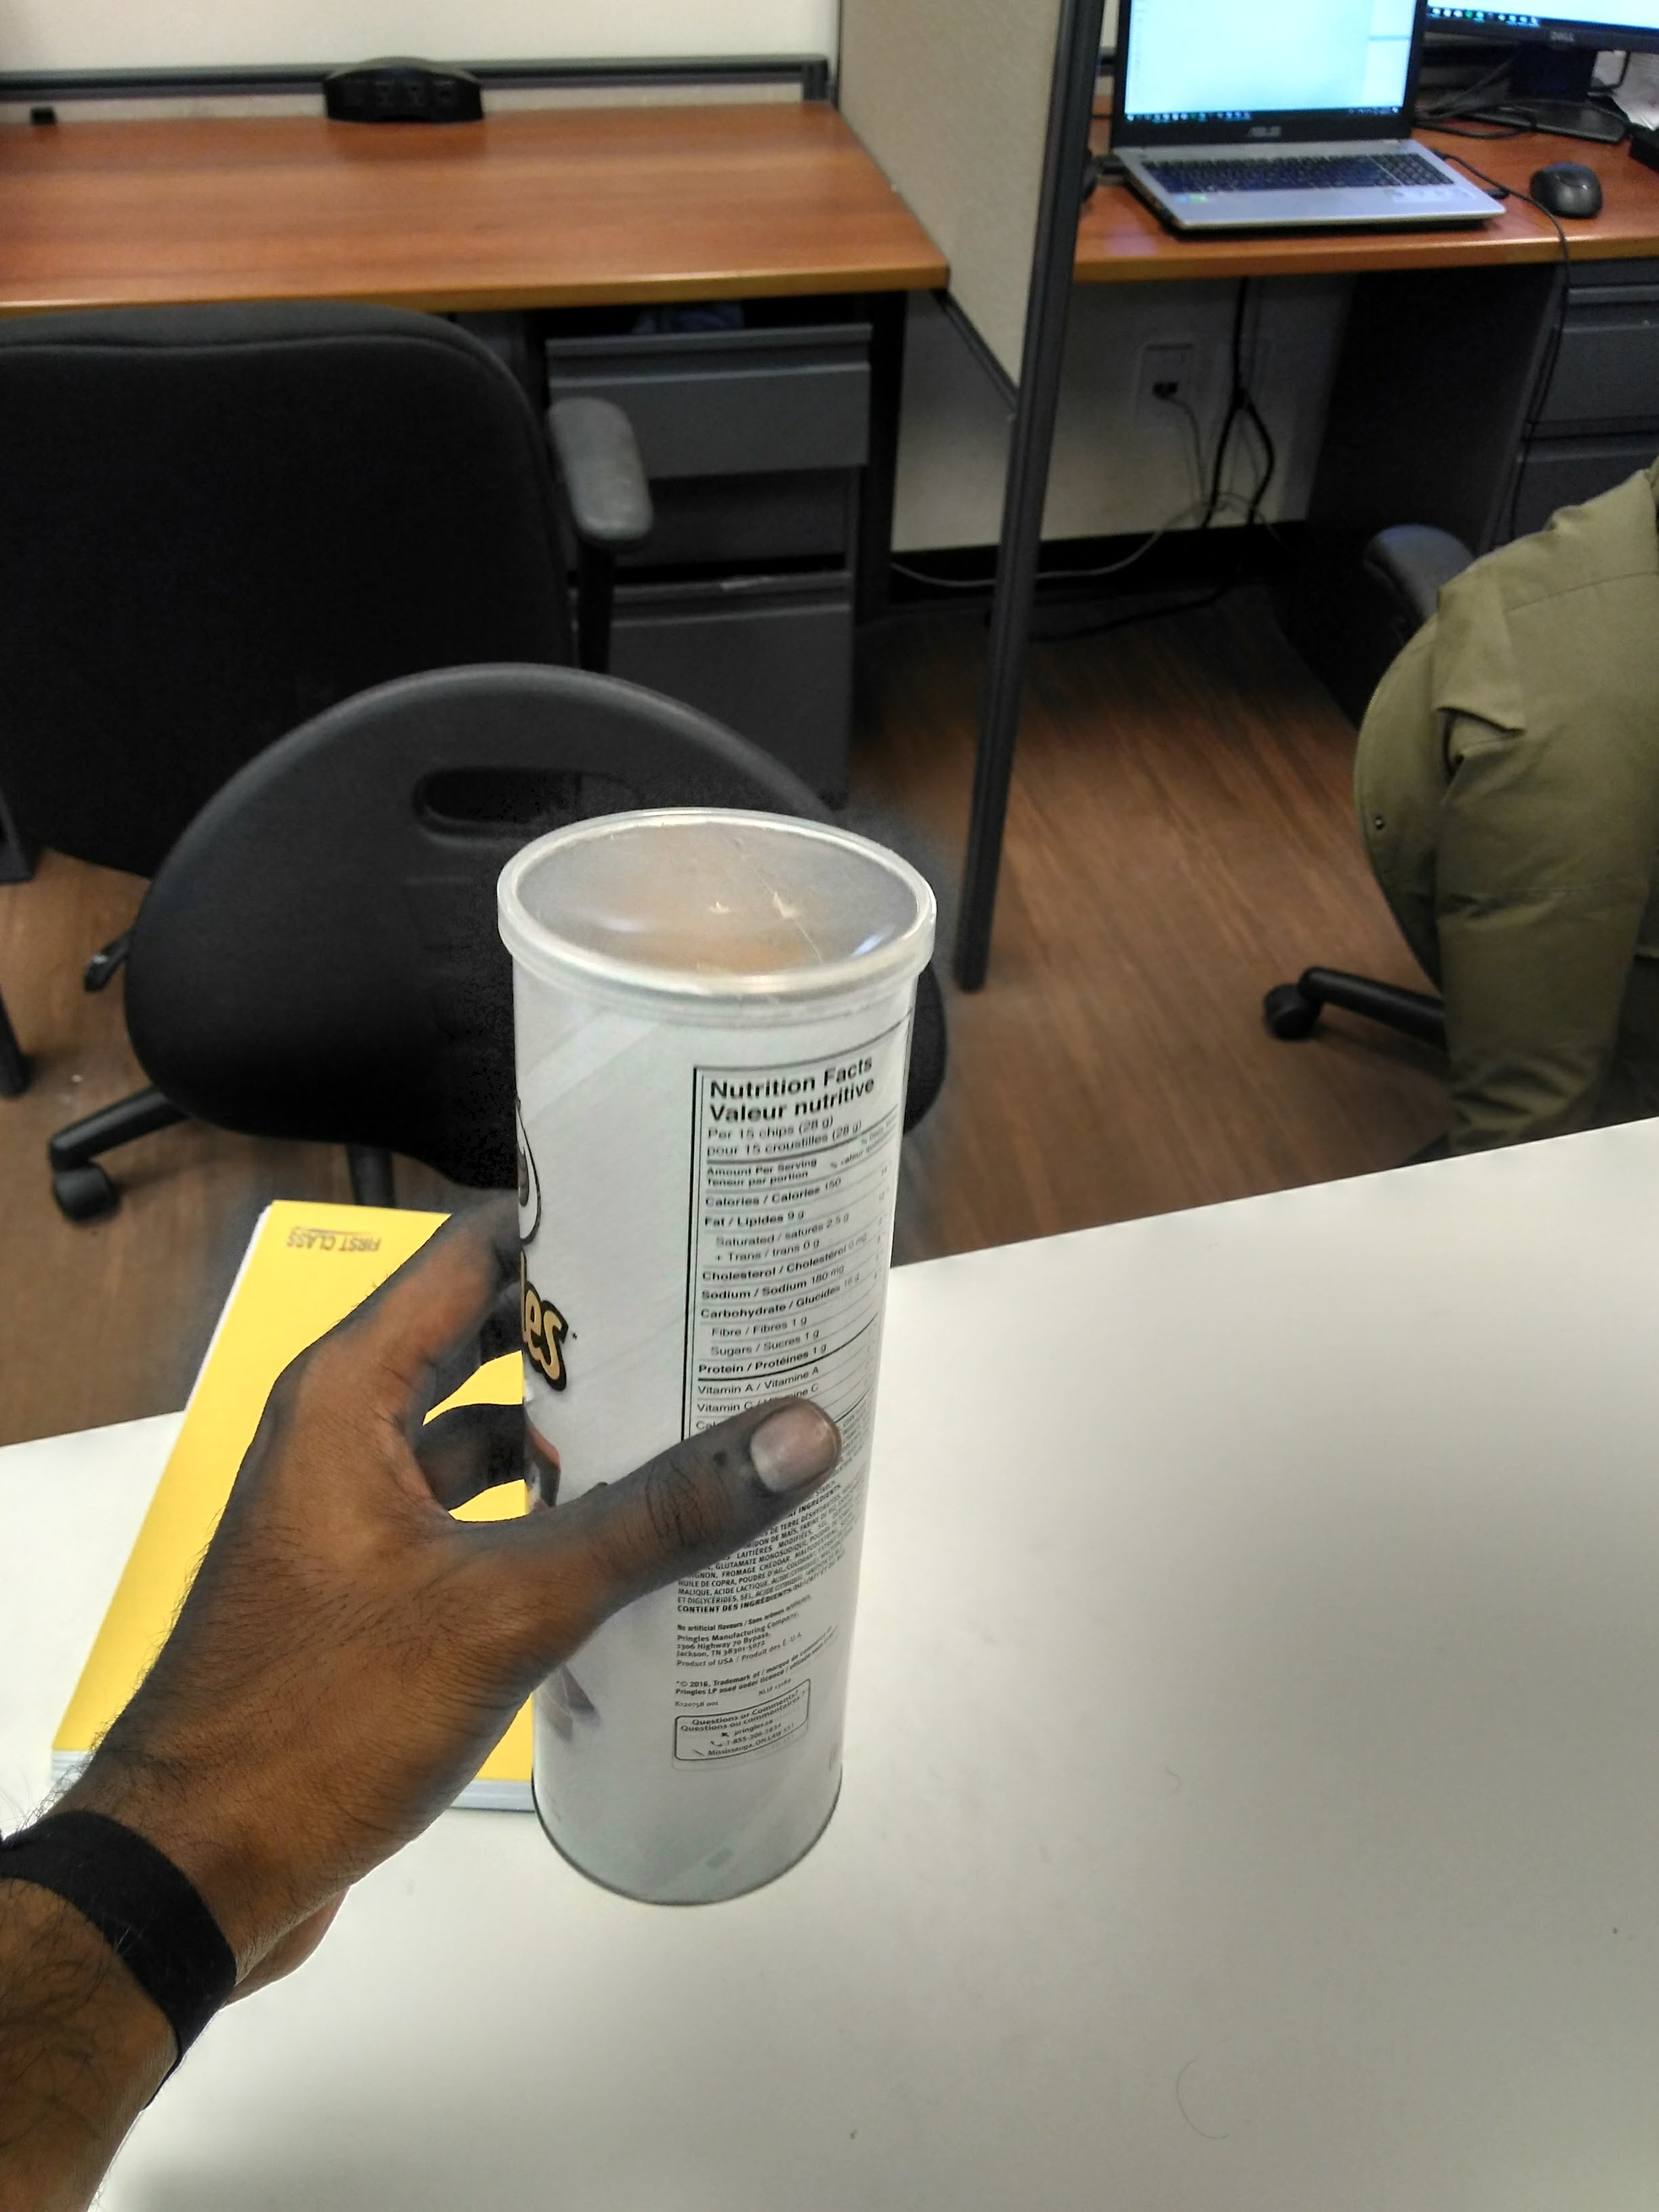pringles: (415, 780, 972, 1937)
